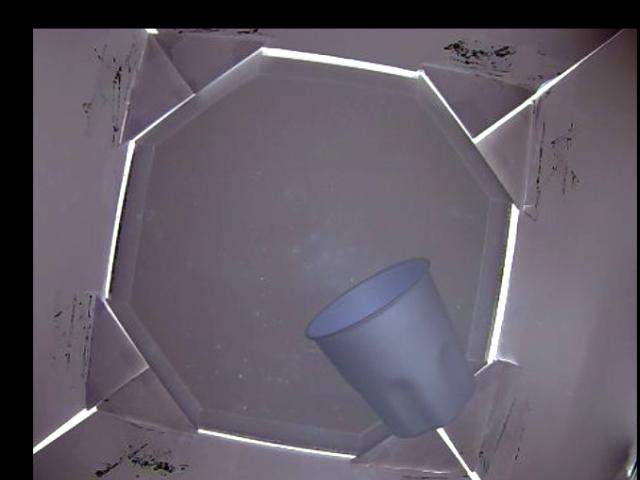Cup: (304, 255, 476, 434)
